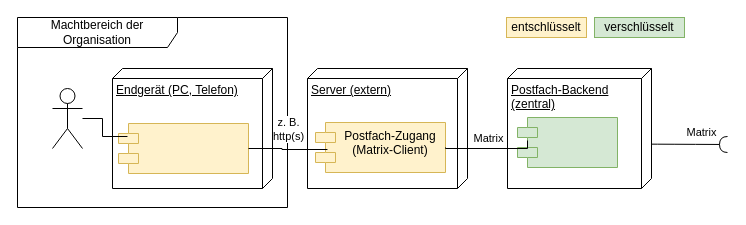
Image size: 746x225. Some labels were removed from this diagram. The centre of each missing label's shape, as x and y in pixels:
"Mitarbeitende" goes at (x=67, y=118).
"Postfach (Matrix-Homeserver)" goes at (x=567, y=142).
"Postfach-Zugang (UI)" goes at (x=183, y=148).
